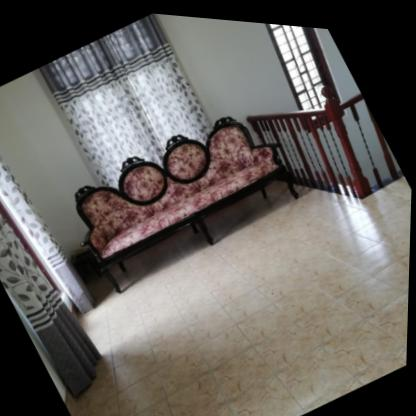Ceramic floor: (66, 169, 412, 416)
Curtains: (39, 11, 212, 186), (0, 211, 103, 396), (0, 155, 97, 312)
Sofa: (52, 75, 315, 310)
